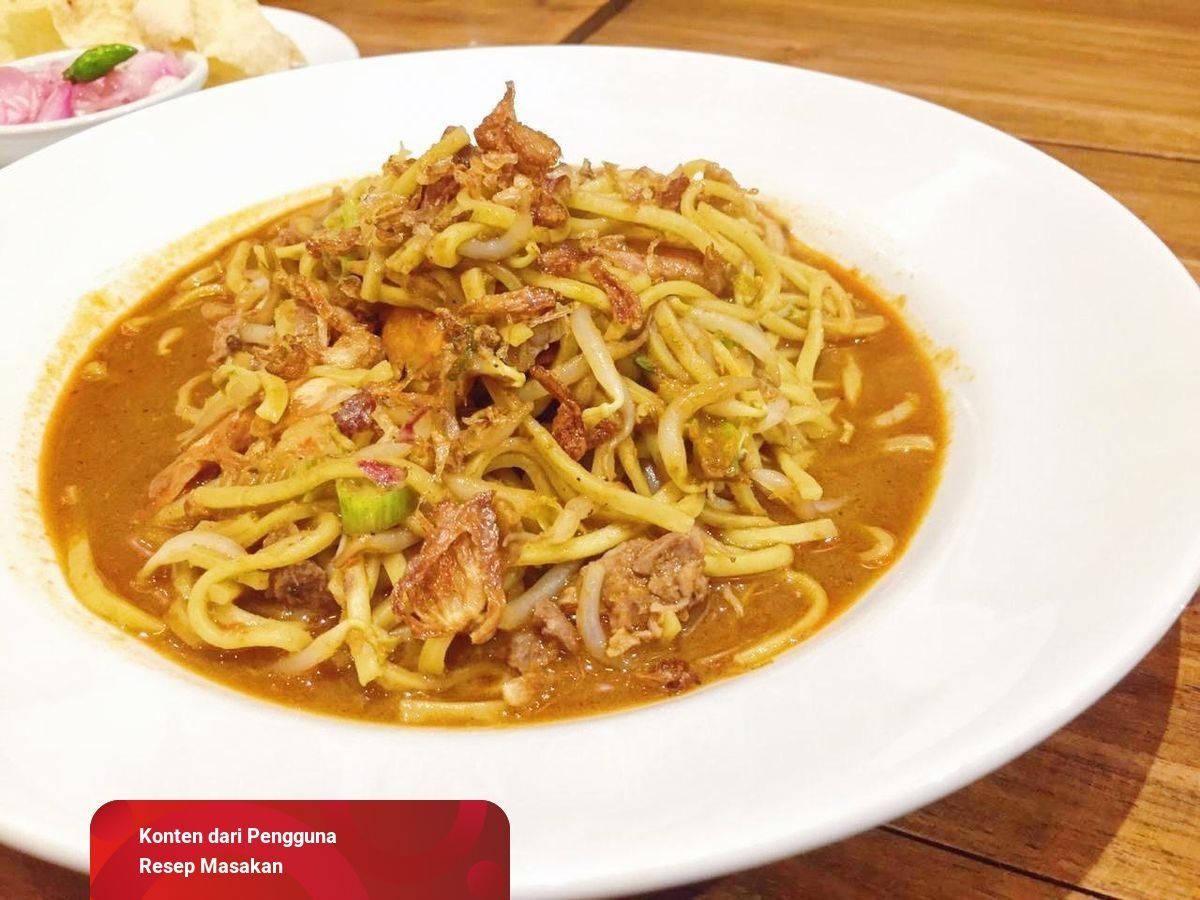mie_aceh: (37, 125, 948, 729)
